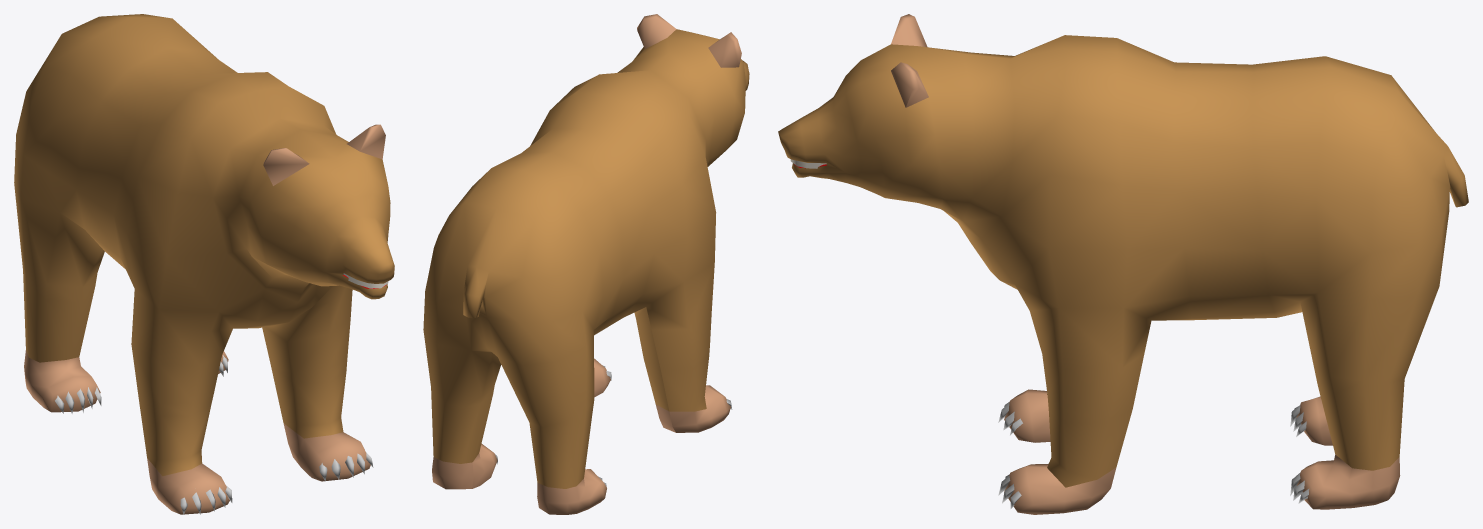
The picture shows the model from 3 angles, left to right: view 1: azimuth 30°, elevation 25°; view 2: azimuth 150°, elevation 25°; view 3: azimuth 270°, elevation 25°; orthographic projection. The views are drawn at different scales.
Parts seen in each view (by area): view 1: bear_____1, ID108, ID14, ID102, ID114, ID36; view 2: bear_____1, ID108, ID22, ID102, ID36, ID114, ID14; view 3: bear_____1, ID22, ID14, ID102, ID108, ID36, ID114.
Part boxes in pixels (x1,y1,x2,y2): bear_____1: (14, 14, 394, 476); ID108: (24, 350, 100, 412); ID14: (283, 423, 370, 481); ID102: (147, 458, 229, 514); ID114: (263, 148, 309, 185); ID36: (347, 124, 385, 159); bear_____1: (423, 29, 749, 488); ID108: (537, 469, 606, 514); ID22: (432, 443, 497, 489); ID102: (655, 385, 730, 432); ID36: (637, 14, 676, 48); ID114: (708, 32, 741, 67); ID14: (594, 358, 610, 397); bear_____1: (778, 35, 1468, 487); ID22: (1296, 454, 1400, 509); ID14: (1004, 463, 1116, 514); ID102: (1004, 389, 1050, 442); ID108: (1296, 396, 1332, 445); ID36: (891, 62, 928, 107); ID114: (891, 14, 927, 47).
Bounding box in the file's own units: 0.2602 × 0.5008 × 0.7325.
